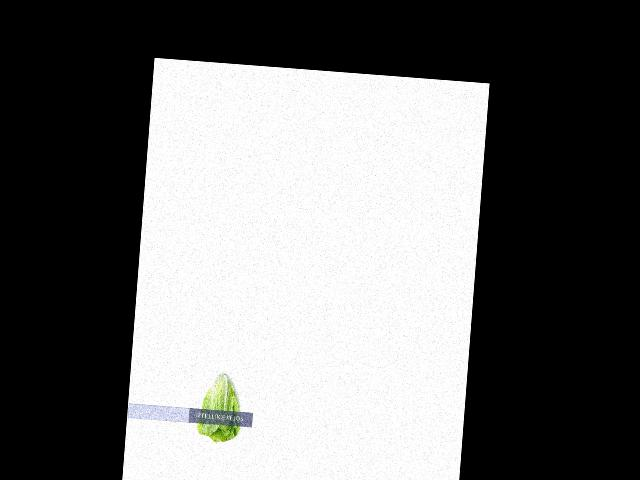lettuce: (194, 365, 248, 444)
